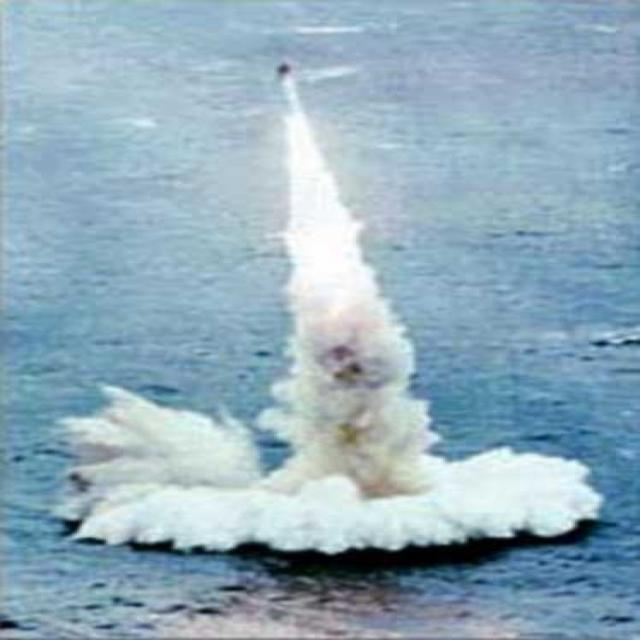missile: (263, 50, 305, 89)
